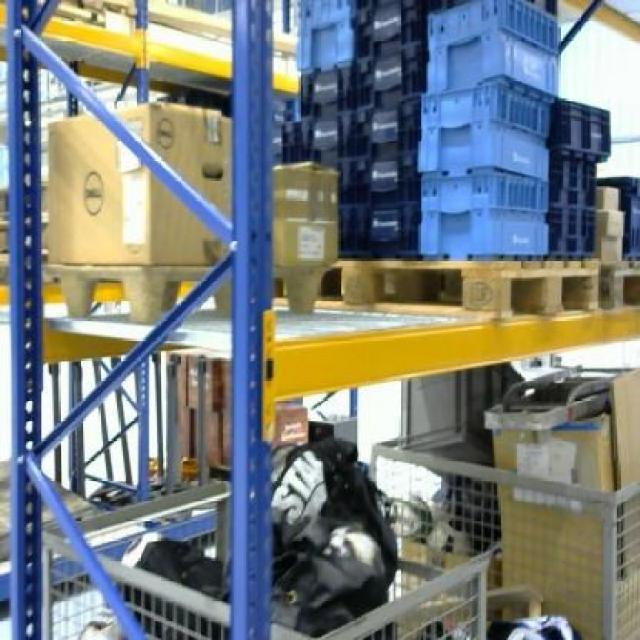box: (46, 103, 231, 262), (498, 431, 610, 611), (274, 164, 338, 264)
